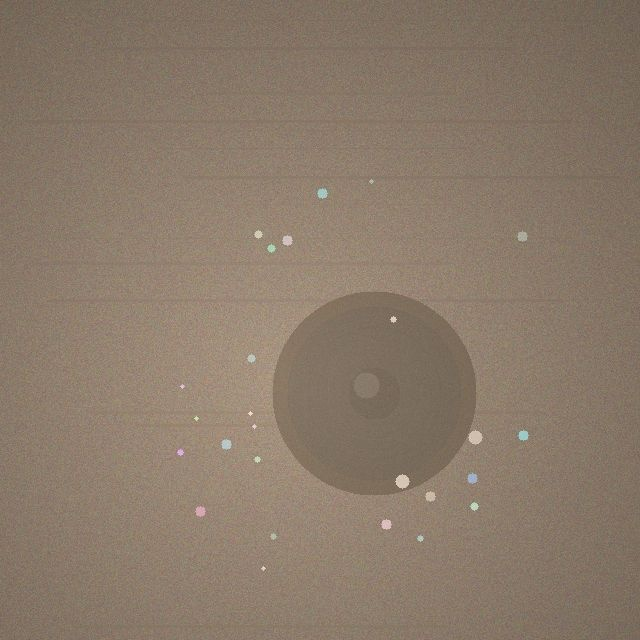overburn: (272, 291, 476, 495)
